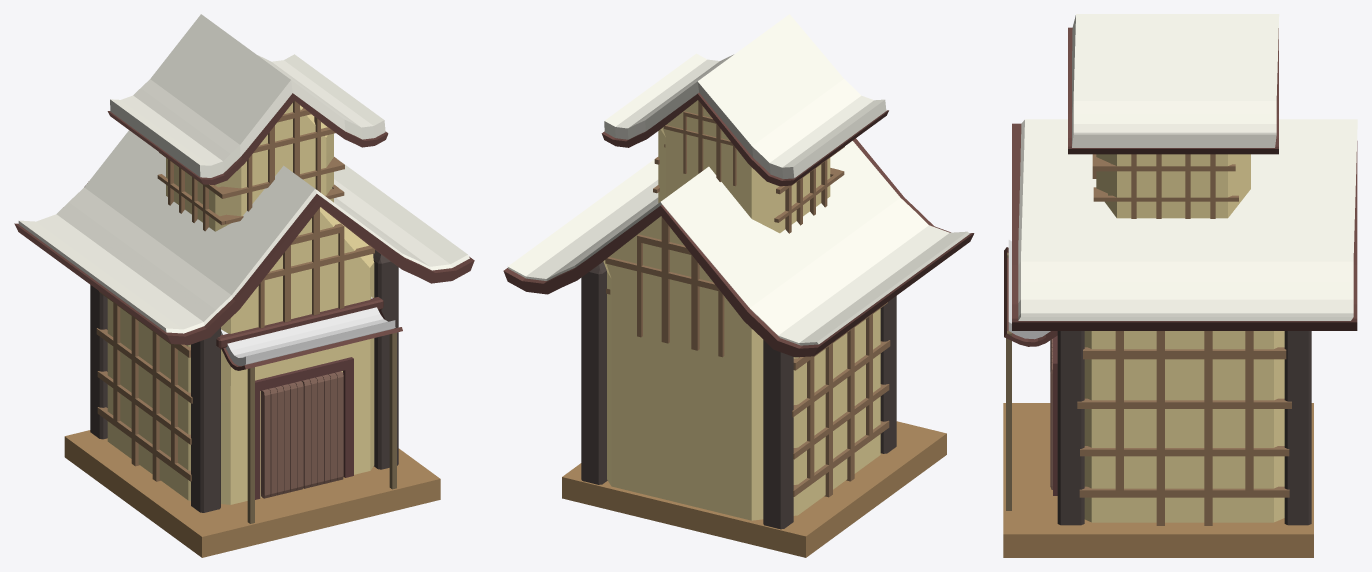
Rendered from village-house4.fbx.
3 renders of one model, left to right at view 1: azimuth 30°, elevation 25°; view 2: azimuth 150°, elevation 25°; view 3: azimuth 270°, elevation 25°, orthographic. The views are drawn at different scales.
Visible parts, largest first — view 1: Cube.011; view 2: Cube.011; view 3: Cube.011.
Boxes of the visible parts, x1,y1,x2,y2 form: Cube.011: (14, 14, 474, 557); Cube.011: (503, 14, 974, 557); Cube.011: (1003, 14, 1357, 557).
Size of the model in its own units: 838 by 1107 by 742.
